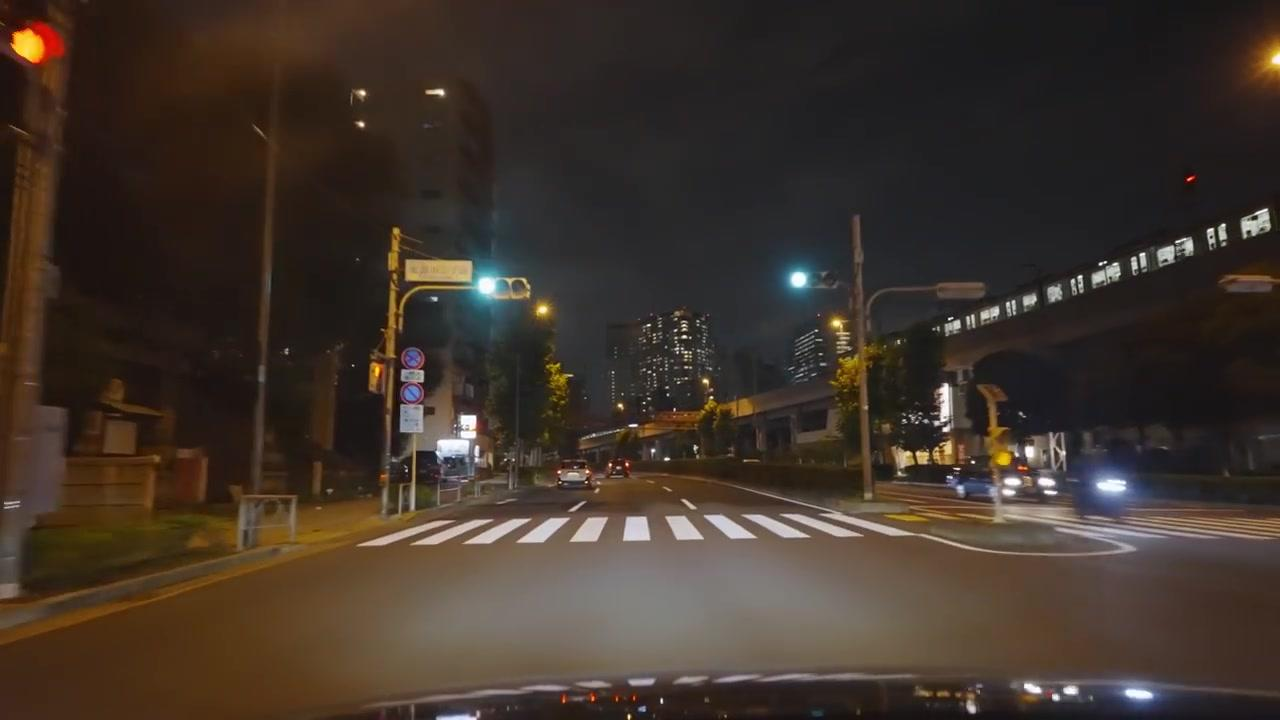car: (1070, 450, 1137, 515), (948, 469, 1000, 501), (1000, 472, 1044, 502), (556, 463, 596, 489), (1033, 468, 1061, 497), (604, 459, 630, 479)
traffic light: (2, 16, 67, 70)
truck: (435, 439, 475, 484)
